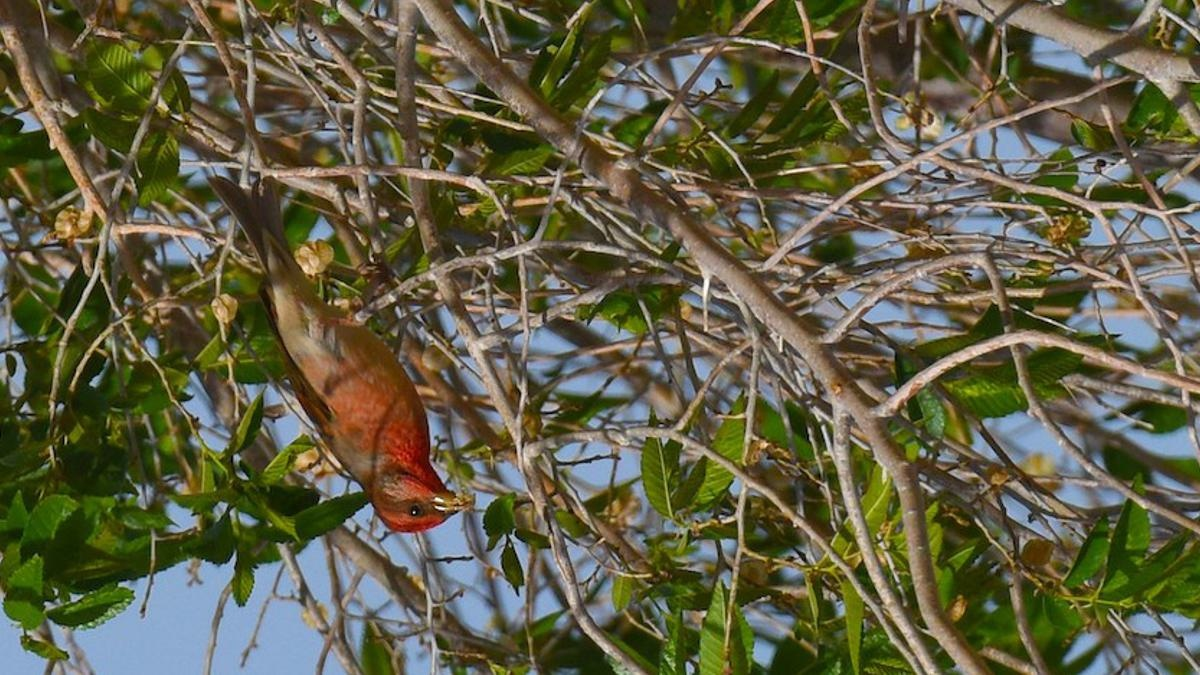rosefinch: (239, 203, 488, 530)
